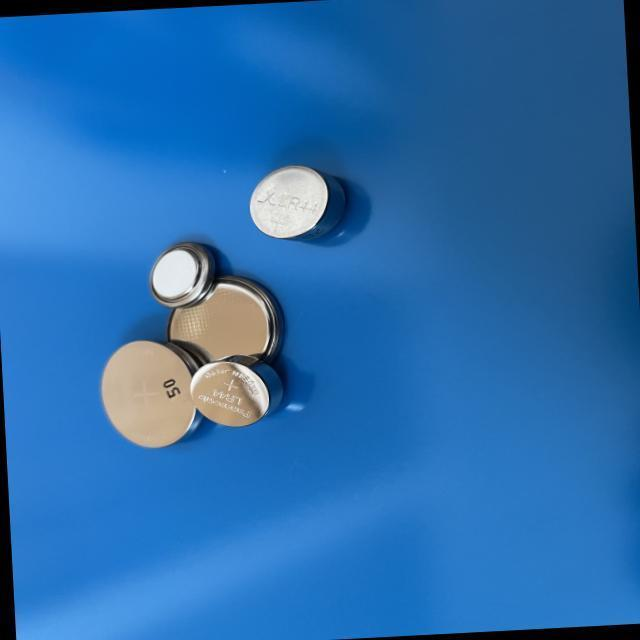COIN: (163, 268, 286, 382), (96, 333, 212, 453), (247, 155, 354, 244), (191, 346, 293, 430), (144, 238, 222, 310)
